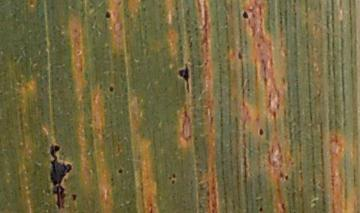tarspot: (49, 143, 70, 208), (177, 62, 191, 93), (241, 10, 249, 20), (116, 167, 125, 175), (237, 50, 243, 61), (104, 11, 112, 19), (70, 193, 78, 201), (280, 202, 285, 213), (258, 127, 264, 136), (283, 172, 289, 181), (258, 206, 265, 213), (108, 86, 115, 92), (171, 172, 177, 179), (170, 179, 176, 185)
